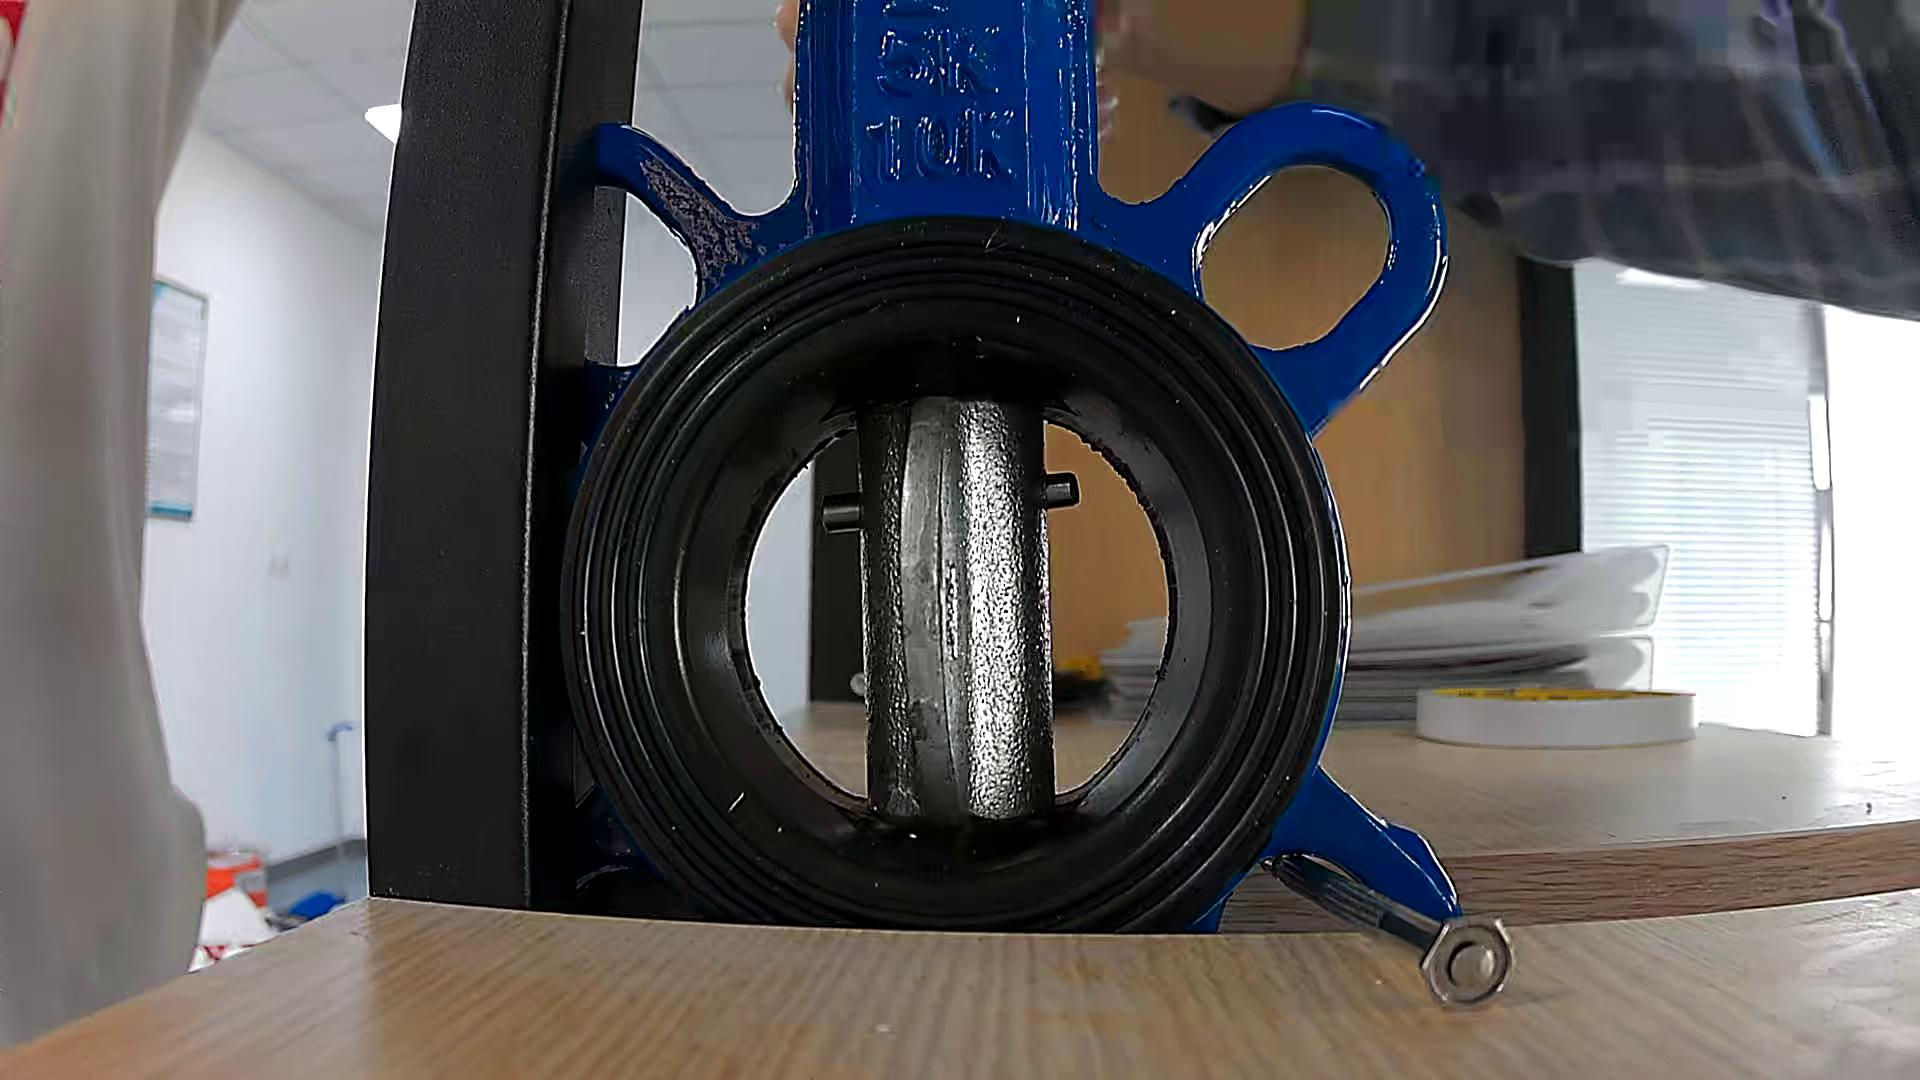valve: (859, 398, 1054, 821)
